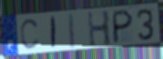3: (136, 7, 156, 42)
C: (20, 18, 41, 52)
H: (87, 10, 113, 49)
I: (68, 12, 77, 50), (50, 15, 57, 51)
P: (112, 8, 135, 44)
